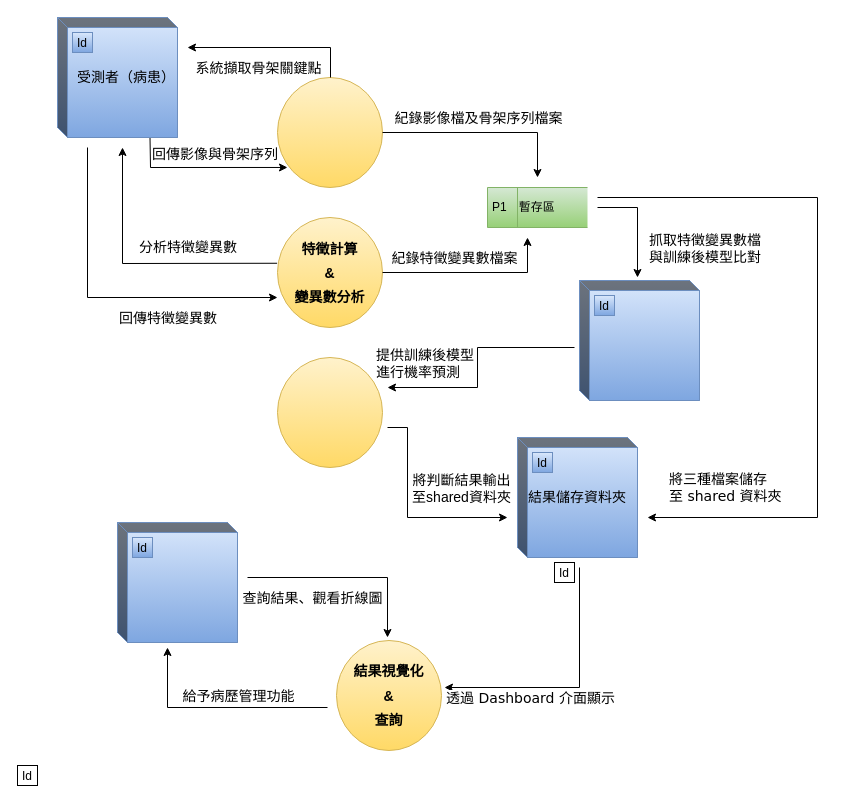
This 843x803 diagram has some shape labels left out. The centre of each missing label's shape, as x and y in pixels:
"使用者 （醫師／研究者）" goes at [177,582].
"影像擷取 & 骨架偵測" goes at [329,132].
"模型判斷 & 結果輸出" goes at [329,412].
"模型資料庫 （Model）" goes at [639,340].
